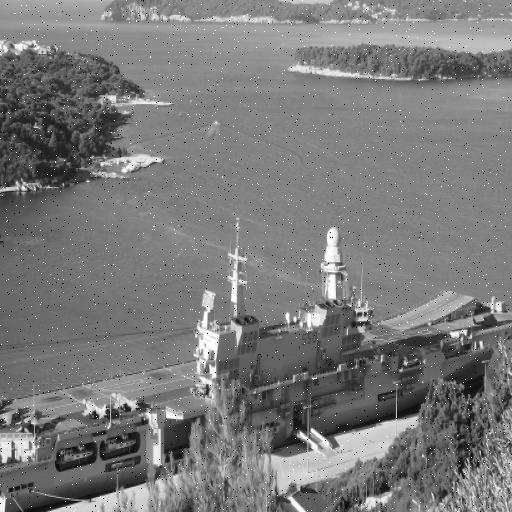Portanaves: (1, 176, 512, 512)
